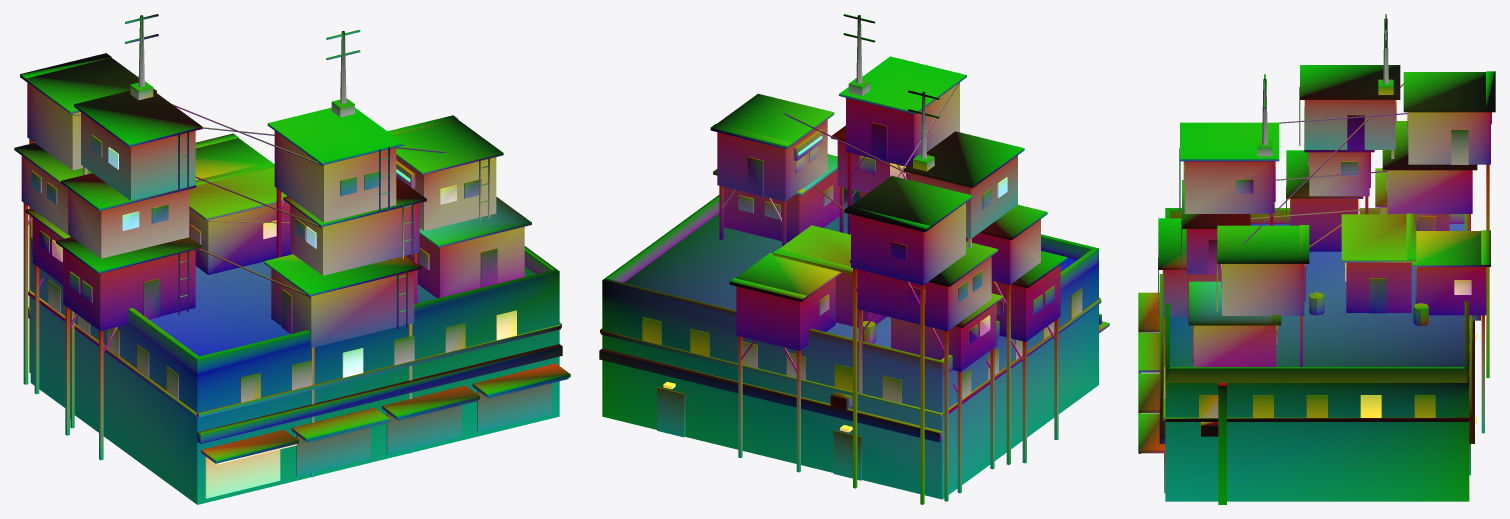
File: Slum_Stack_V4.fbx
The picture shows the model from 3 angles, left to right: view 1: azimuth 30°, elevation 25°; view 2: azimuth 150°, elevation 25°; view 3: azimuth 270°, elevation 25°; orthographic projection. The views are drawn at different scales.
Visible parts, largest first — view 1: Slum_Stack_V4_LOD0; view 2: Slum_Stack_V4_LOD0; view 3: Slum_Stack_V4_LOD0.
Boxes of the visible parts, left/top/right/bottom form: Slum_Stack_V4_LOD0: left=14, top=14, right=570, bottom=504; Slum_Stack_V4_LOD0: left=599, top=14, right=1109, bottom=504; Slum_Stack_V4_LOD0: left=1138, top=14, right=1495, bottom=504.
Size of what is drawn, in the model's own units: 22.2 by 20.09 by 18.57.
